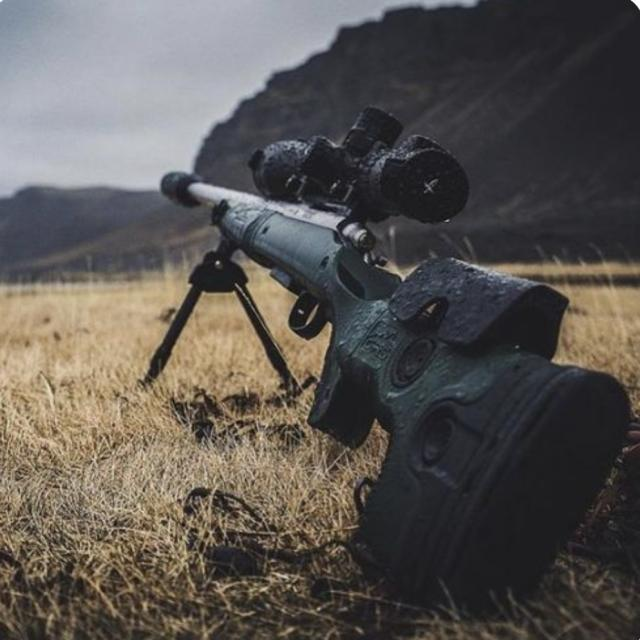bazooka: (154, 117, 637, 640)
